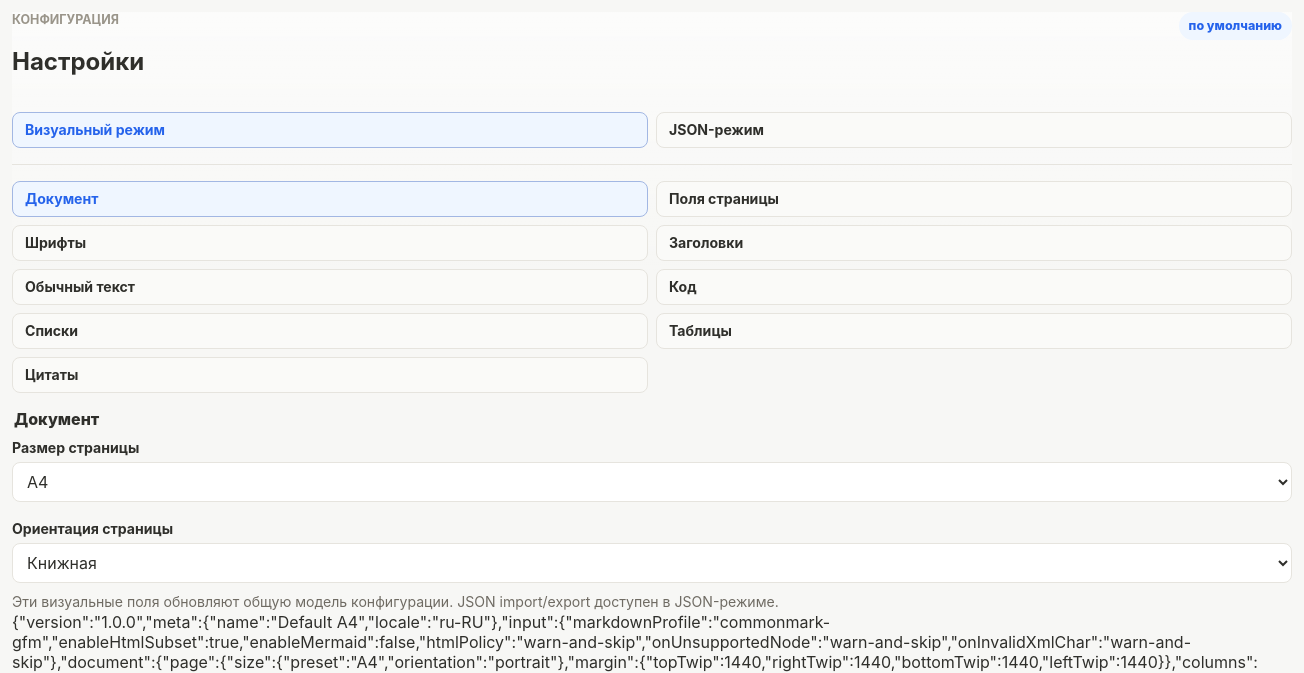
StyleSettingsPanel › shows a Russian error for invalid font size
The width and height of the screenshot is (1304, 673).
Click the tab "Шрифты" at (56, 243), box 12,225 -> 648,261
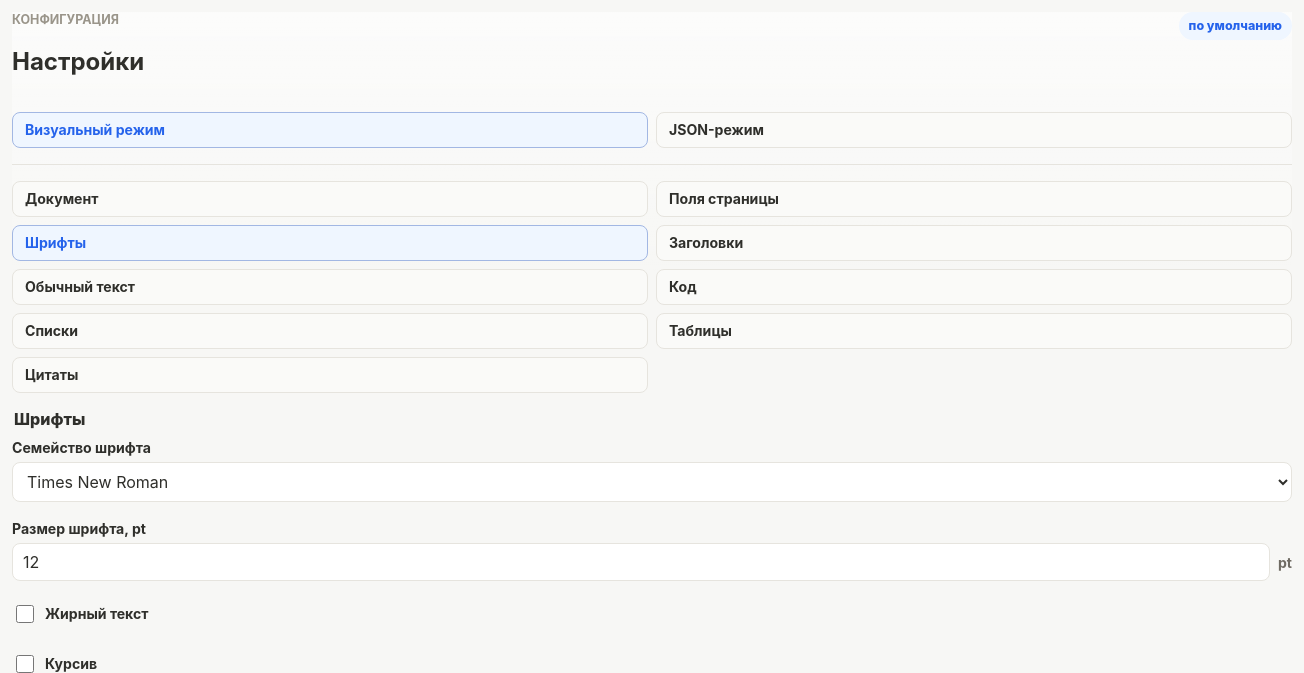
Replace the text in the number field labelled "Размер шрифта, pt" with "-1" at (641, 562), box 12,543 -> 1270,581
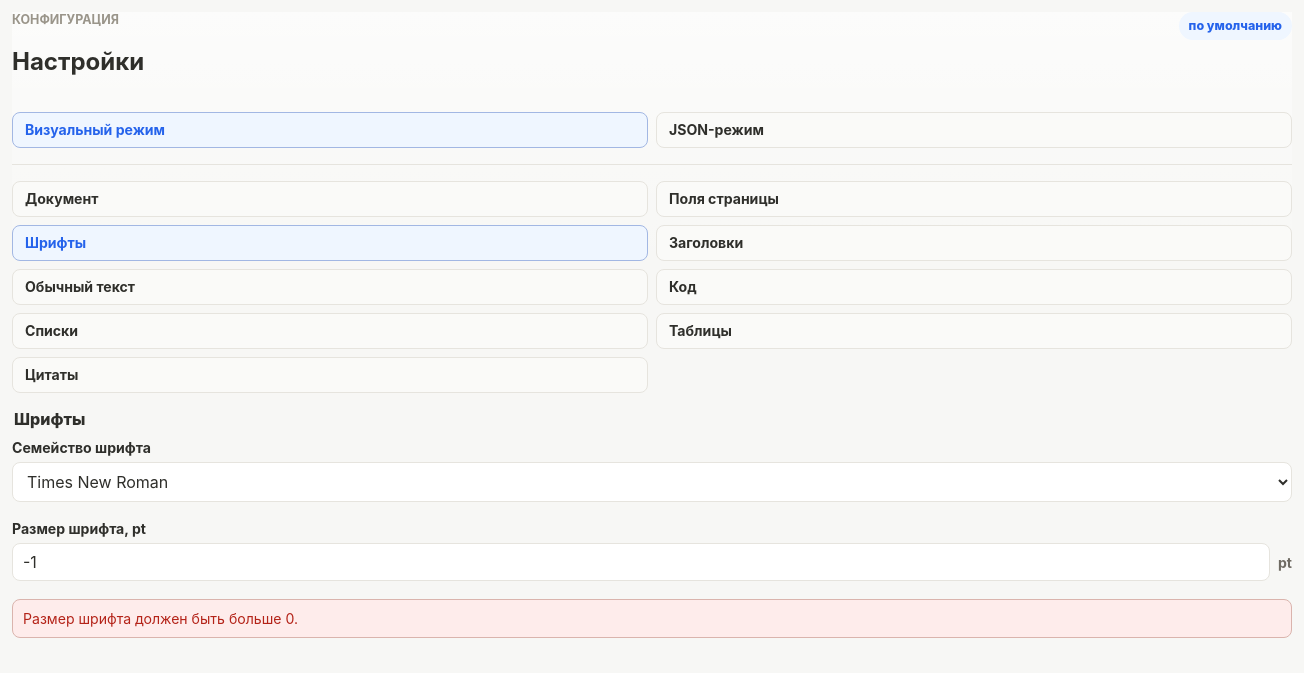
Expected: the text "Размер шрифта должен быть больше 0." is shown, 12,599 -> 1292,638
